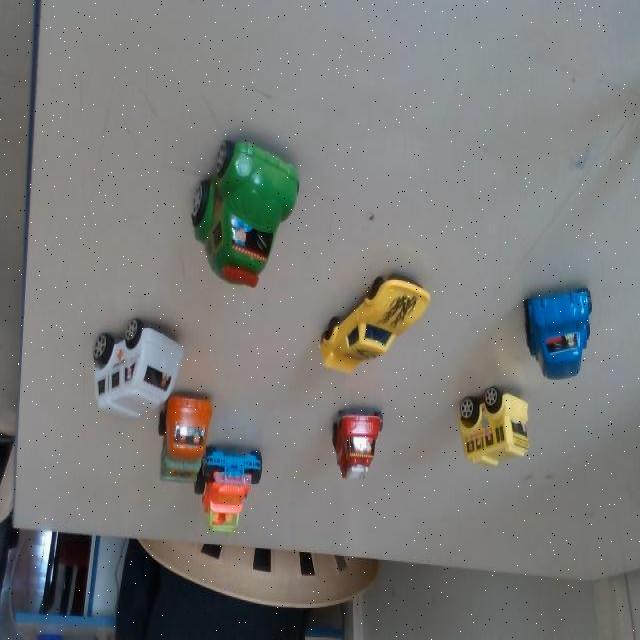car: (186, 149, 299, 284), (88, 308, 188, 431), (317, 273, 428, 375), (199, 446, 274, 542), (524, 287, 596, 380), (451, 380, 526, 467), (155, 388, 214, 492), (321, 397, 383, 487)
